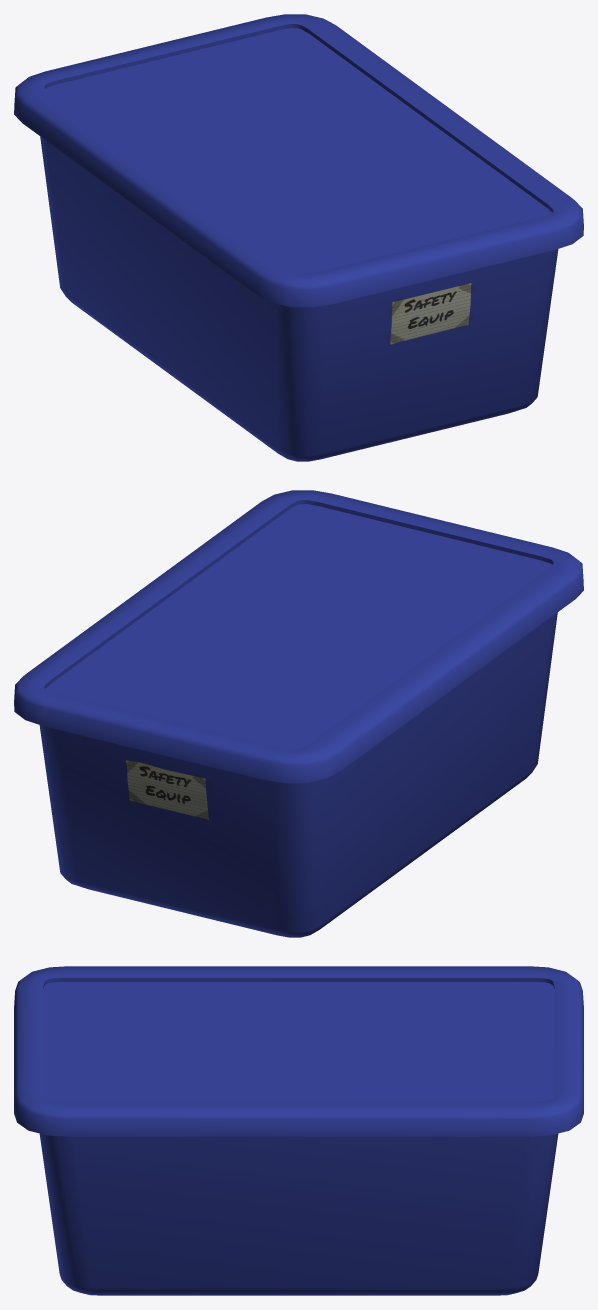
File: SM_Plastic_Container_01d.fbx
The picture shows the model from 3 angles, top to bottom: view 1: azimuth 30°, elevation 25°; view 2: azimuth 150°, elevation 25°; view 3: azimuth 270°, elevation 25°; orthographic projection. The views are drawn at different scales.
Visible parts, largest first — view 1: SM_Plastic_Container_01d_LOD0; view 2: SM_Plastic_Container_01d_LOD0; view 3: SM_Plastic_Container_01d_LOD0.
Part boxes in pixels (bbox=[...]): SM_Plastic_Container_01d_LOD0: bbox=[14, 14, 583, 461]; SM_Plastic_Container_01d_LOD0: bbox=[14, 490, 583, 937]; SM_Plastic_Container_01d_LOD0: bbox=[14, 966, 583, 1295].
Size of the model in its own units: 39.23 by 62.17 by 24.23.
